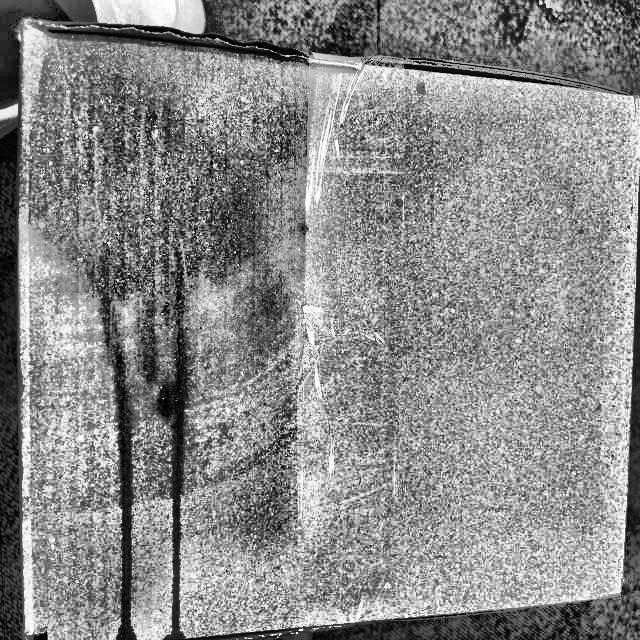box: (0, 0, 640, 640)
wet: (29, 29, 318, 388)
